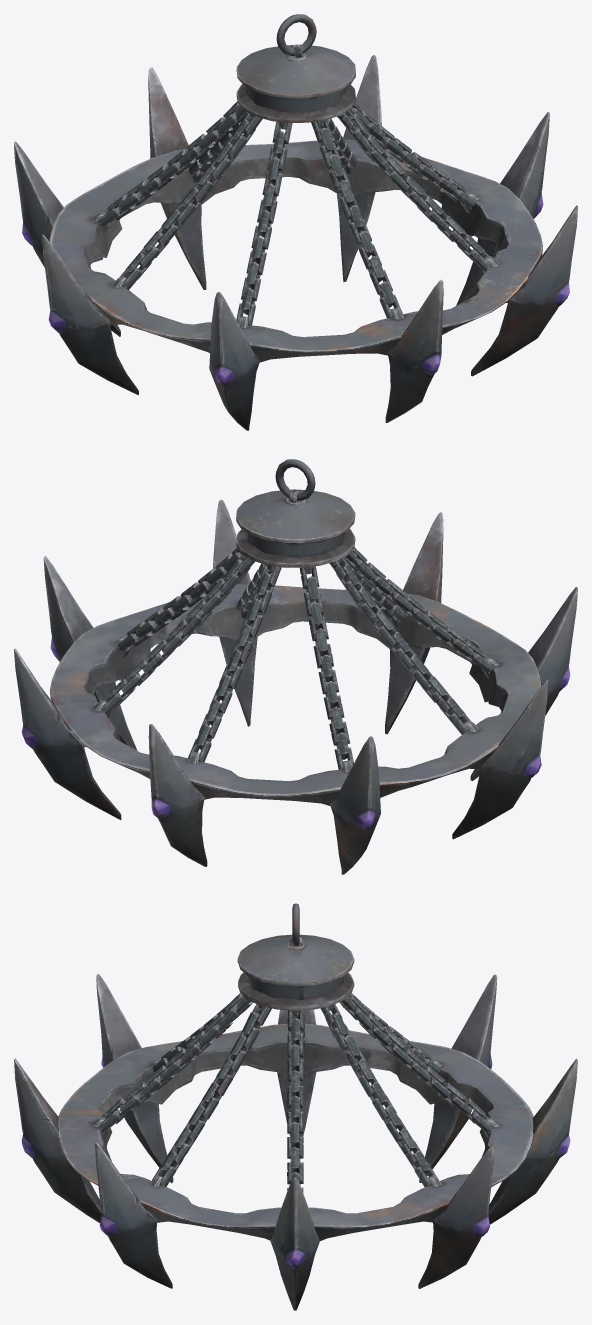
The picture shows the model from 3 angles, top to bottom: view 1: azimuth 30°, elevation 25°; view 2: azimuth 150°, elevation 25°; view 3: azimuth 270°, elevation 25°; orthographic projection. The views are drawn at different scales.
Visible parts, largest first — view 1: SM_Temple_Chandelier_01v1_LOD0; view 2: SM_Temple_Chandelier_01v1_LOD0; view 3: SM_Temple_Chandelier_01v1_LOD0.
Part boxes in pixels (x1,y1,x2,y2): SM_Temple_Chandelier_01v1_LOD0: [14, 14, 577, 430]; SM_Temple_Chandelier_01v1_LOD0: [14, 459, 577, 874]; SM_Temple_Chandelier_01v1_LOD0: [14, 903, 577, 1310].
Bounding box in the file's own units: 3.32 × 2.14 × 3.31.
Materials: 1 (1 with a texture image).
